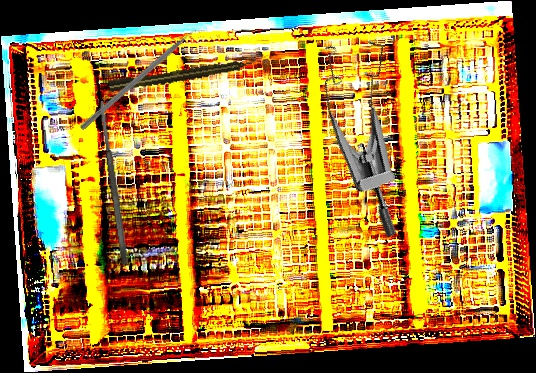Chopper: (79, 21, 209, 137)
Handpiece: (108, 55, 258, 94)
Spatula Surgical: (97, 100, 130, 265)
Speculum: (284, 21, 471, 240)
